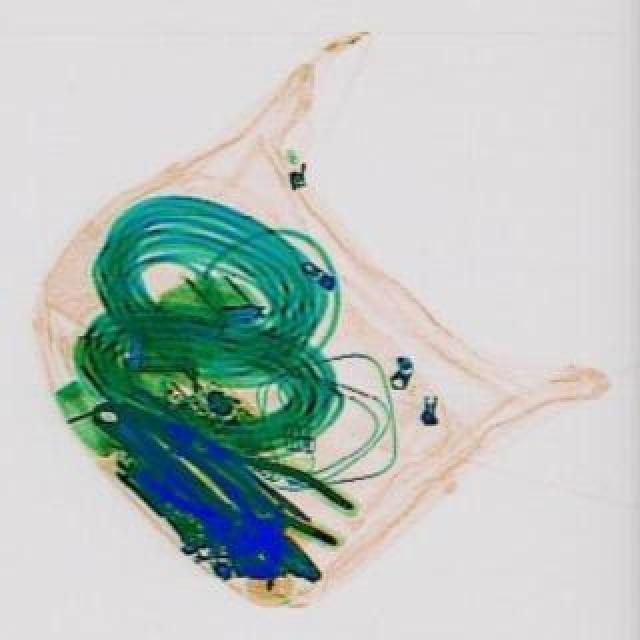scissors: (84, 386, 296, 594)
wrench: (140, 434, 342, 602), (166, 412, 366, 546)
